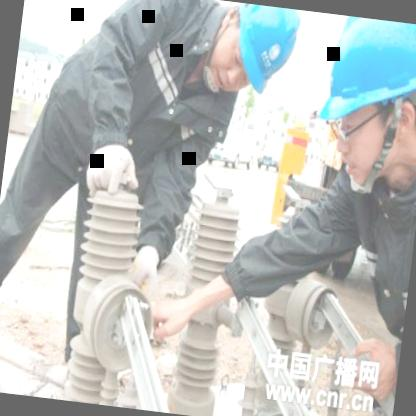helmet: (300, 12, 416, 195), (210, 0, 313, 112)
